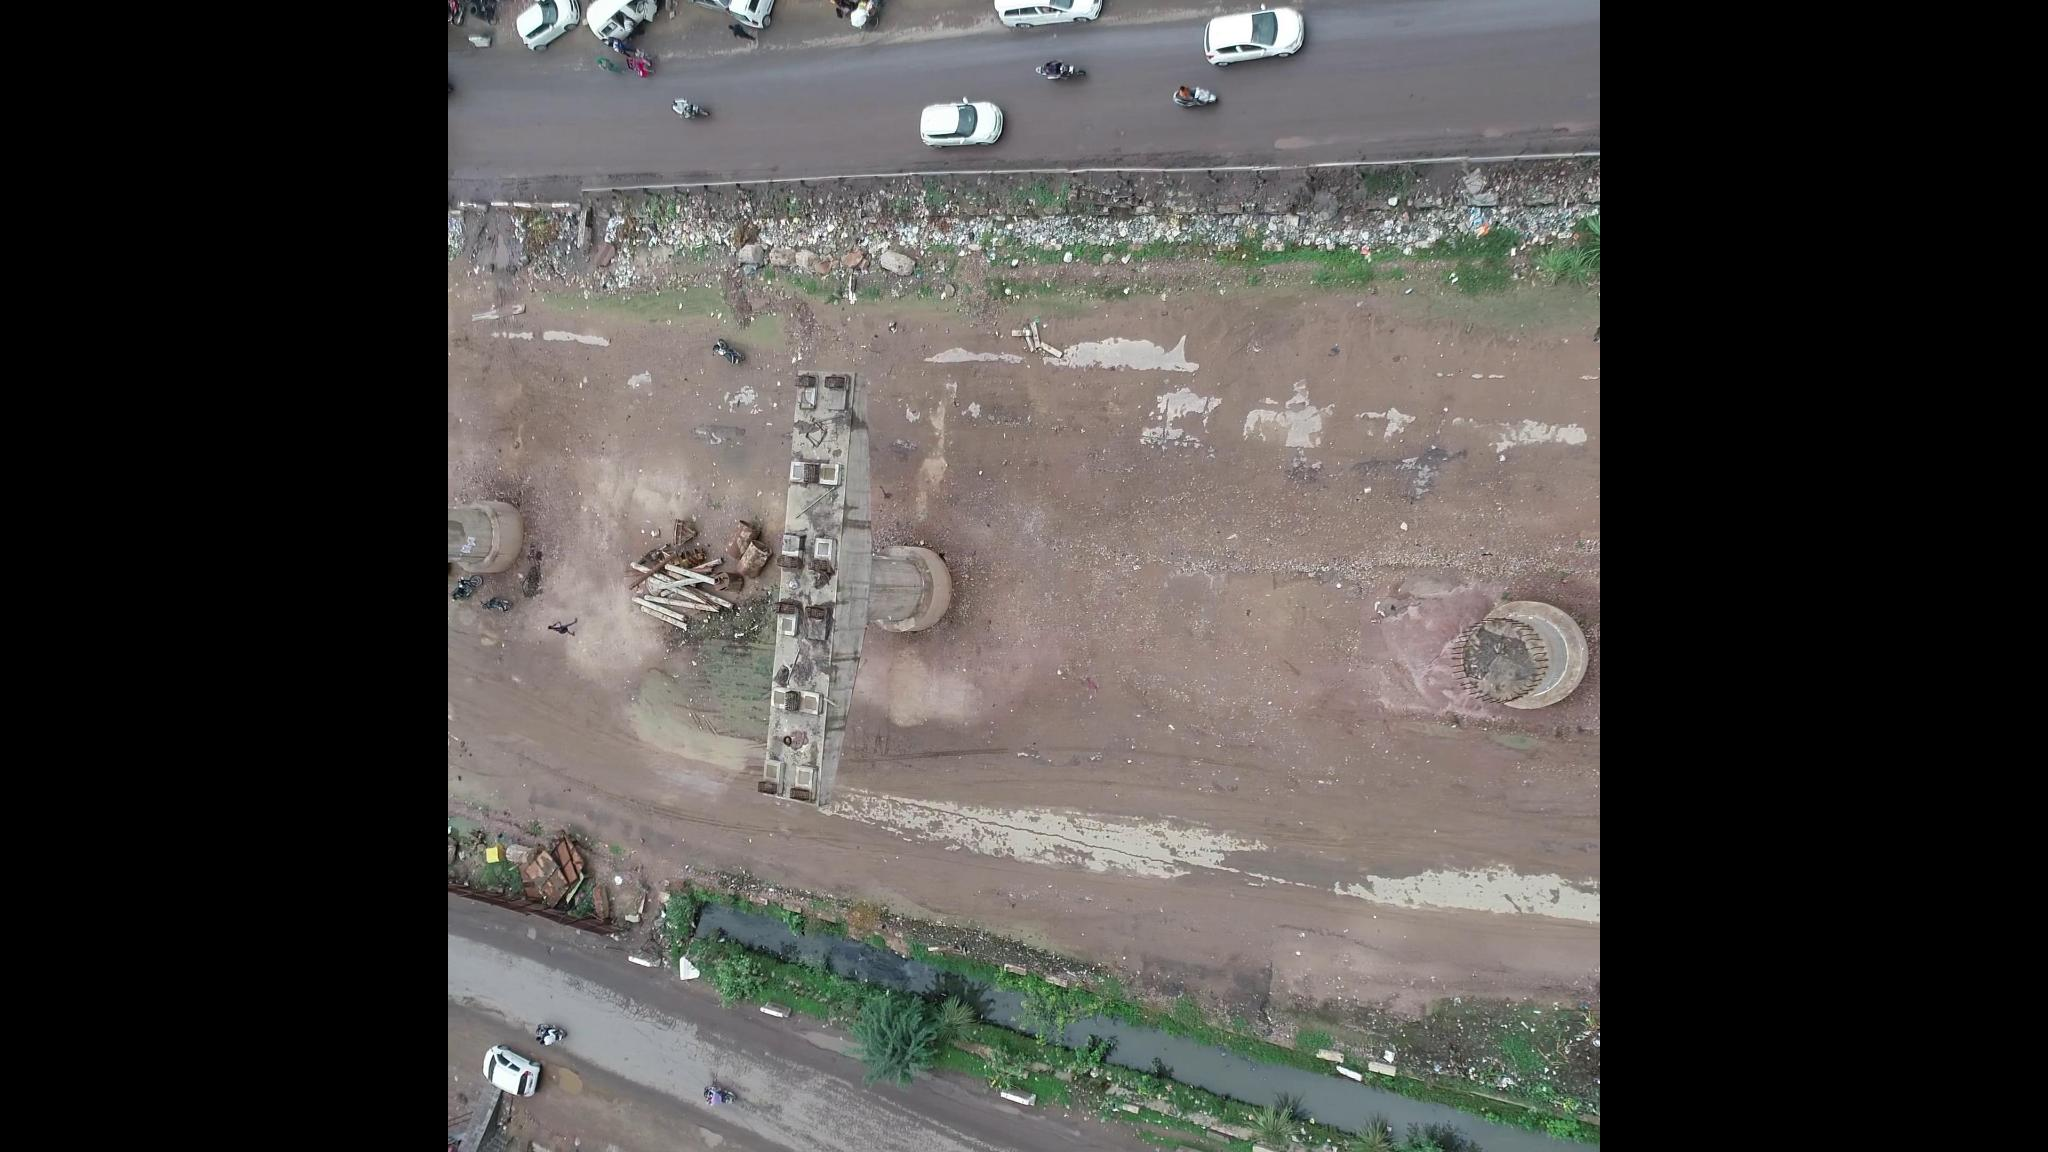Cracks: (561, 968, 675, 1034)
